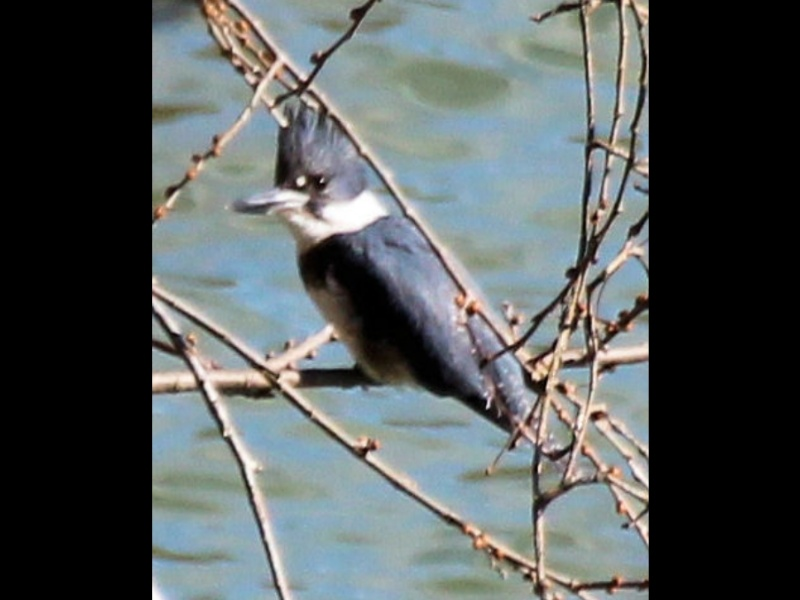kingfisher: (221, 101, 561, 461)
